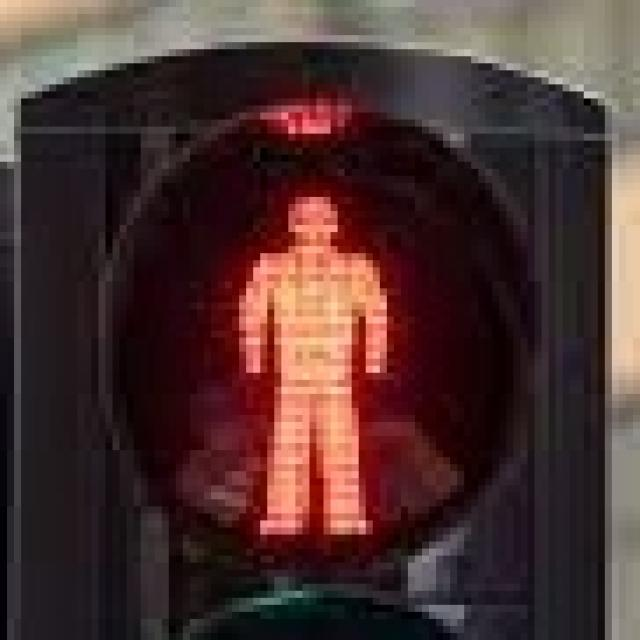red-crossing: (204, 154, 422, 548)
